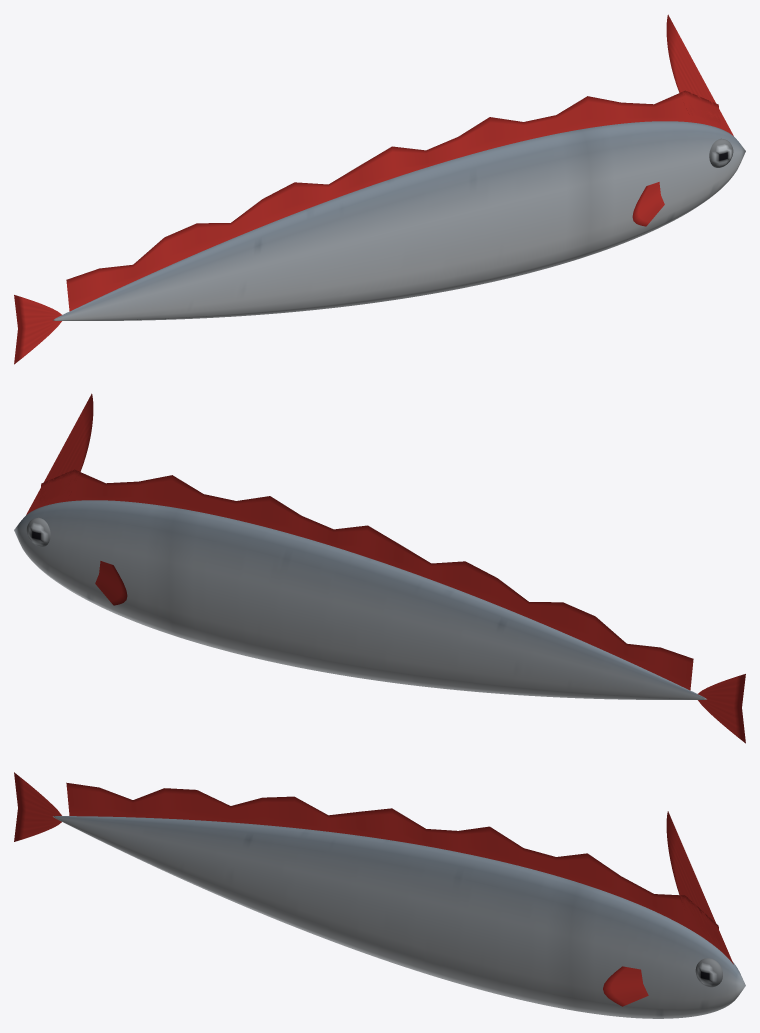
The model's file is kurdele.glb.
The picture shows the model from 3 angles, top to bottom: view 1: azimuth 30°, elevation 25°; view 2: azimuth 150°, elevation 25°; view 3: azimuth 330°, elevation 25°; orthographic projection.
Visible parts, largest first — view 1: kurdele_govde, kurdele_sirt, kurdele_tepelik, kurdele_kuyruk, kurdele_gogusL; view 2: kurdele_govde, kurdele_sirt, kurdele_tepelik, kurdele_kuyruk, kurdele_gogusR; view 3: kurdele_govde, kurdele_sirt, kurdele_tepelik, kurdele_kuyruk, kurdele_gogusL, kurdele_gozL.
Boxes of the visible parts, x1=… form: kurdele_govde: x1=53, y1=121, x2=745, y2=320; kurdele_sirt: x1=66, y1=90, x2=720, y2=311; kurdele_tepelik: x1=666, y1=14, x2=733, y2=135; kurdele_kuyruk: x1=14, y1=295, x2=61, y2=364; kurdele_gogusL: x1=632, y1=182, x2=664, y2=226; kurdele_govde: x1=14, y1=500, x2=706, y2=699; kurdele_sirt: x1=39, y1=469, x2=693, y2=690; kurdele_tepelik: x1=26, y1=393, x2=93, y2=514; kurdele_kuyruk: x1=698, y1=674, x2=745, y2=743; kurdele_gogusR: x1=95, y1=561, x2=127, y2=605; kurdele_govde: x1=53, y1=816, x2=745, y2=1018; kurdele_sirt: x1=66, y1=782, x2=720, y2=950; kurdele_tepelik: x1=666, y1=811, x2=733, y2=964; kurdele_kuyruk: x1=14, y1=772, x2=61, y2=841; kurdele_gogusL: x1=603, y1=966, x2=648, y2=1006; kurdele_gozL: x1=695, y1=958, x2=722, y2=987.
Size of the model in its own units: 0.875 by 0.2562 by 0.0615.
